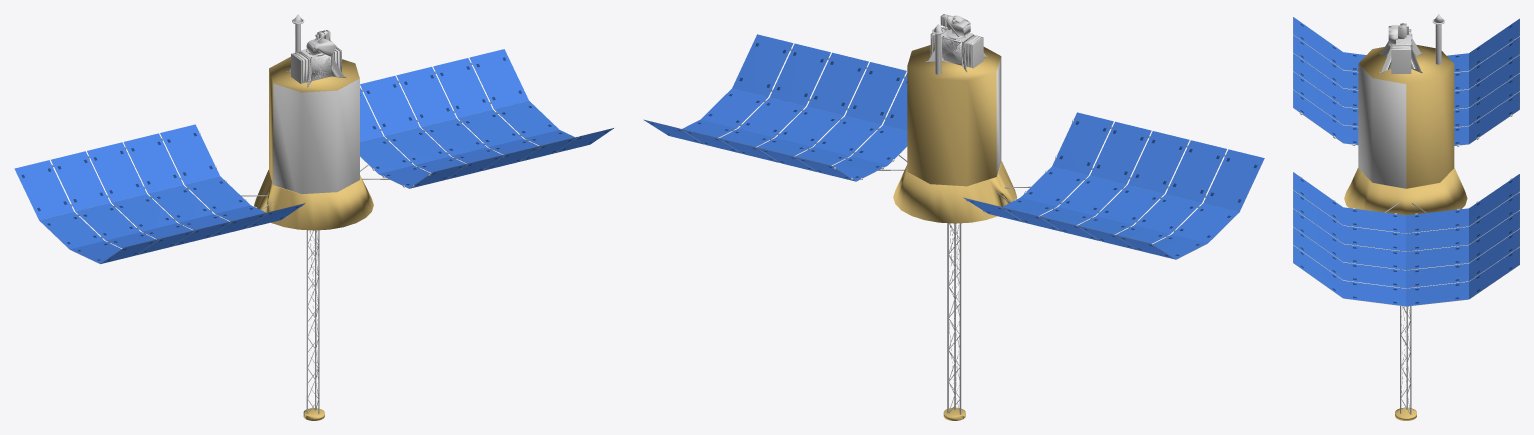
File: satellite-for-scientific-applications-sac-c.glb
3 views of the same model, side by side, from view 1: azimuth 30°, elevation 25°; view 2: azimuth 150°, elevation 25°; view 3: azimuth 270°, elevation 25° (orthographic). The views are drawn at different scales.
Parts seen in each view (by area): view 1: Fake; view 2: Fake; view 3: Fake.
Part boxes in pixels (x1,y1,x2,y2): Fake: [14, 14, 613, 420]; Fake: [643, 14, 1264, 420]; Fake: [1293, 14, 1519, 420].
Size of the model in its own units: 60.24 by 45.9 by 23.46.
Materials: 1 (1 with a texture image).
